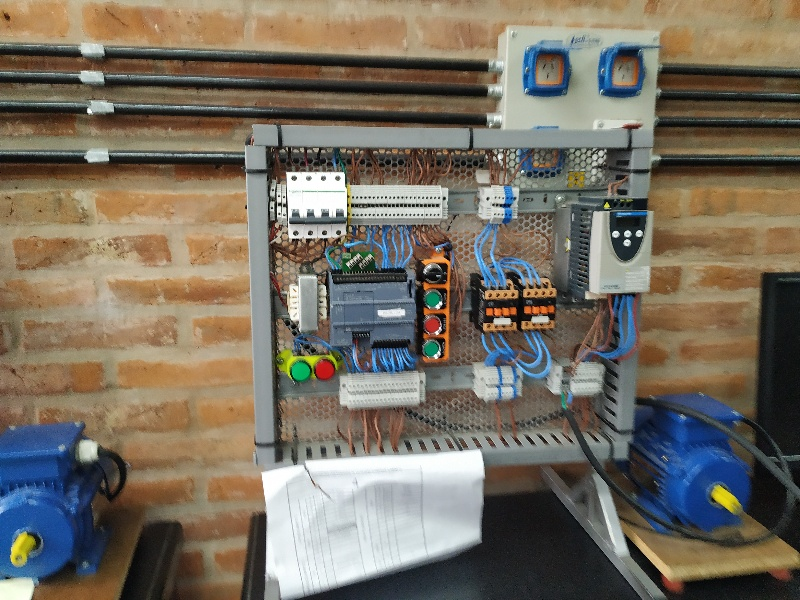Tablero 4: (264, 139, 651, 467)
